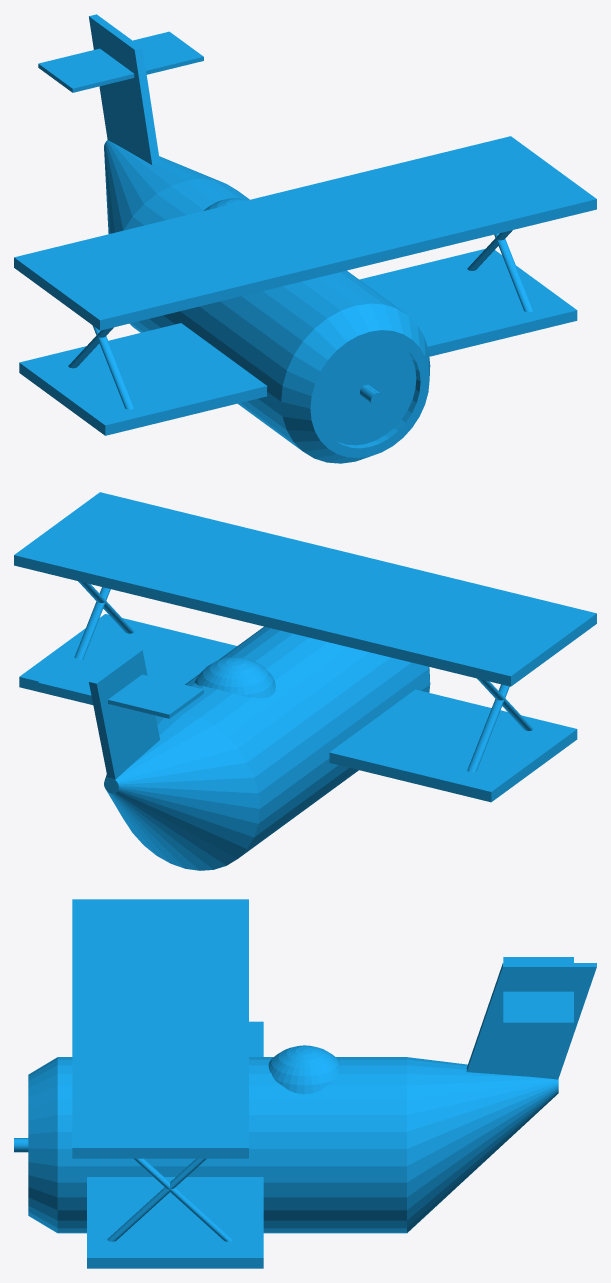
File: Biplane.fbx
3 renders of one model, top to bottom at view 1: azimuth 30°, elevation 25°; view 2: azimuth 150°, elevation 25°; view 3: azimuth 270°, elevation 25°, orthographic. The views are drawn at different scales.
Visible parts, largest first — view 1: Cylinder; view 2: Cylinder; view 3: Cylinder.
Part boxes in pixels (left/top/right/bottom): Cylinder: left=14, top=14, right=596, bottom=463; Cylinder: left=14, top=492, right=596, bottom=870; Cylinder: left=14, top=899, right=596, bottom=1268.
Size of the model in its own units: 177 by 86.36 by 175.
